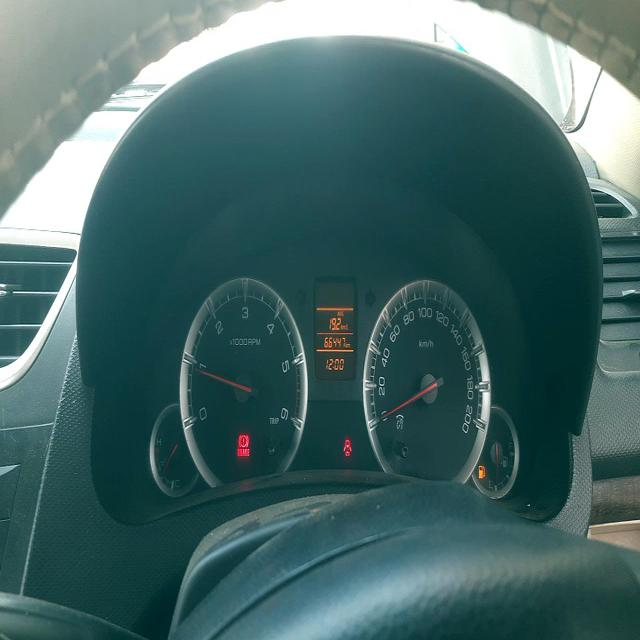odometer: (322, 336, 346, 349)
